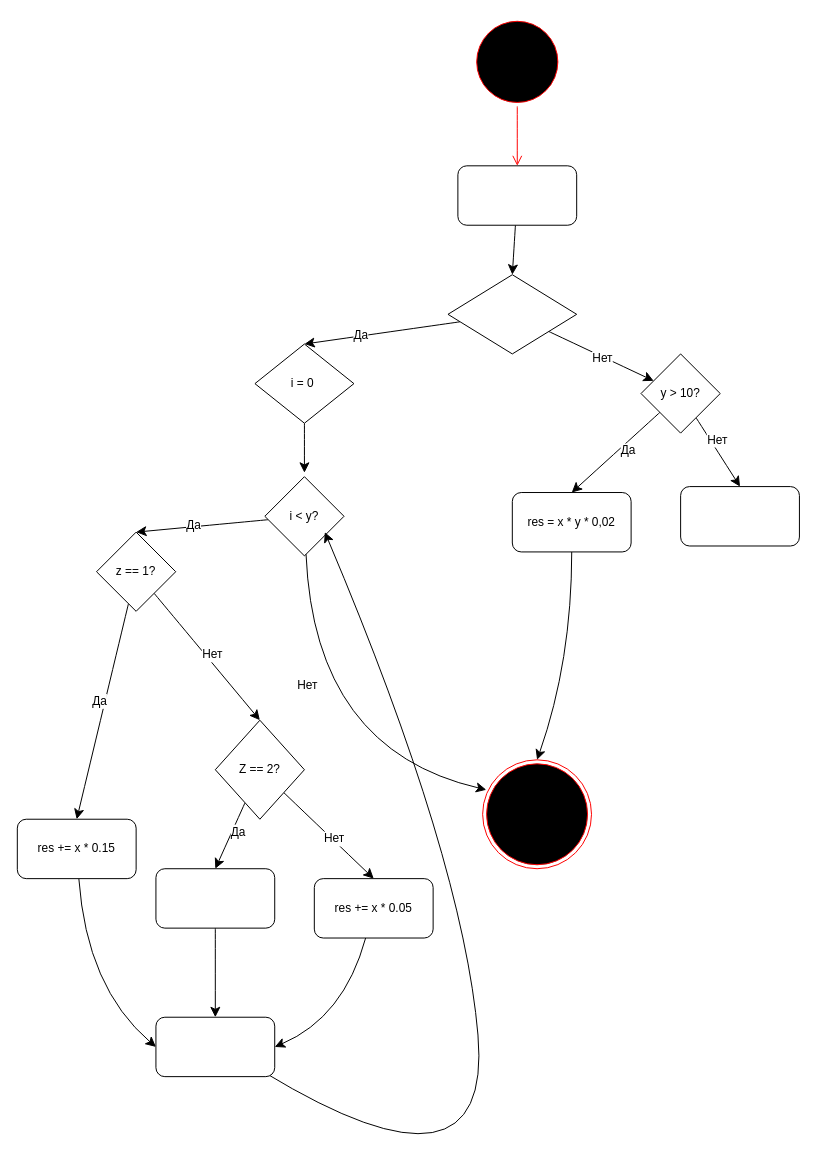
Some shapes in this 817 by 1151 pixel diagram are drawn without their labels. Here are the shapes that lost their labels. From the top down, the centre of each, then its label:
(x=517, y=195): res = 0
(x=512, y=314): x > 1000?
(x=739, y=516): res = x * y * 0,01
(x=215, y=898): res += x * 0.10
(x=215, y=1046): i = i + 1
